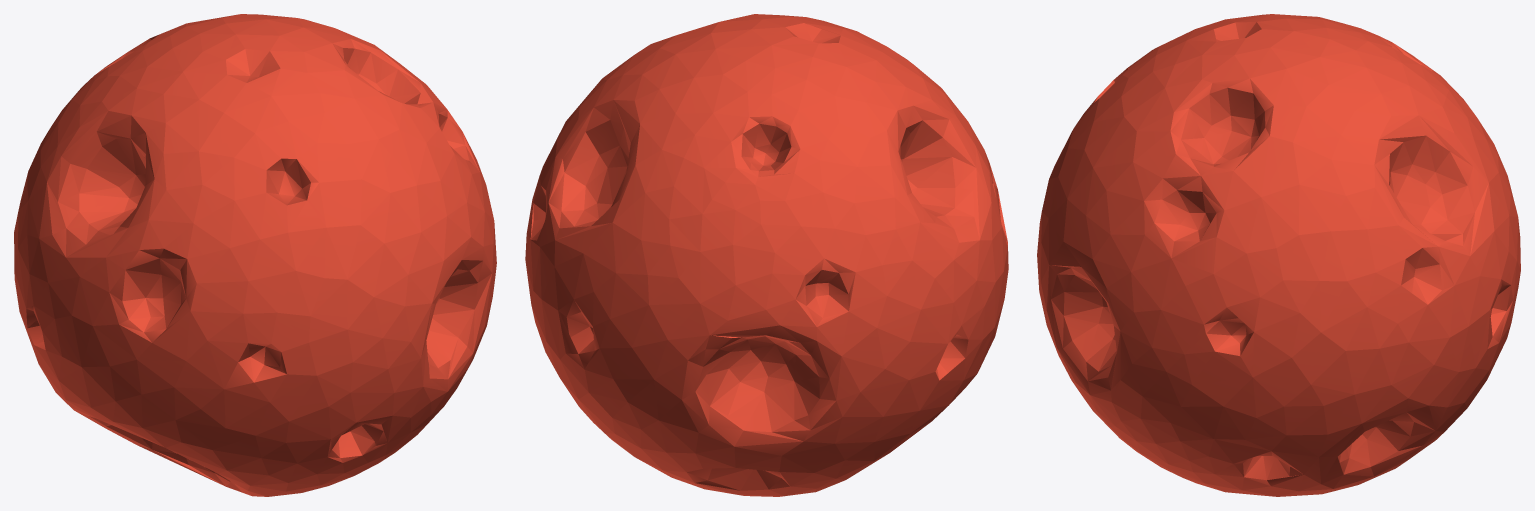
File: planet.glb
The picture shows the model from 3 angles, left to right: view 1: azimuth 30°, elevation 25°; view 2: azimuth 150°, elevation 25°; view 3: azimuth 270°, elevation 25°; orthographic projection.
Visible parts, largest first — view 1: moon; view 2: moon; view 3: moon.
Part boxes in pixels (x1,y1,x2,y2): moon: [14, 14, 496, 496]; moon: [525, 14, 1008, 496]; moon: [1037, 14, 1520, 496].
Size of the model in its own units: 1.23 by 1.24 by 1.23.
